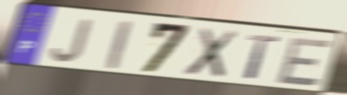7: (141, 20, 192, 75)
E: (274, 36, 335, 88)
I: (105, 18, 134, 71)
J: (49, 18, 95, 64)
T: (244, 33, 282, 82)
X: (182, 26, 241, 80)
